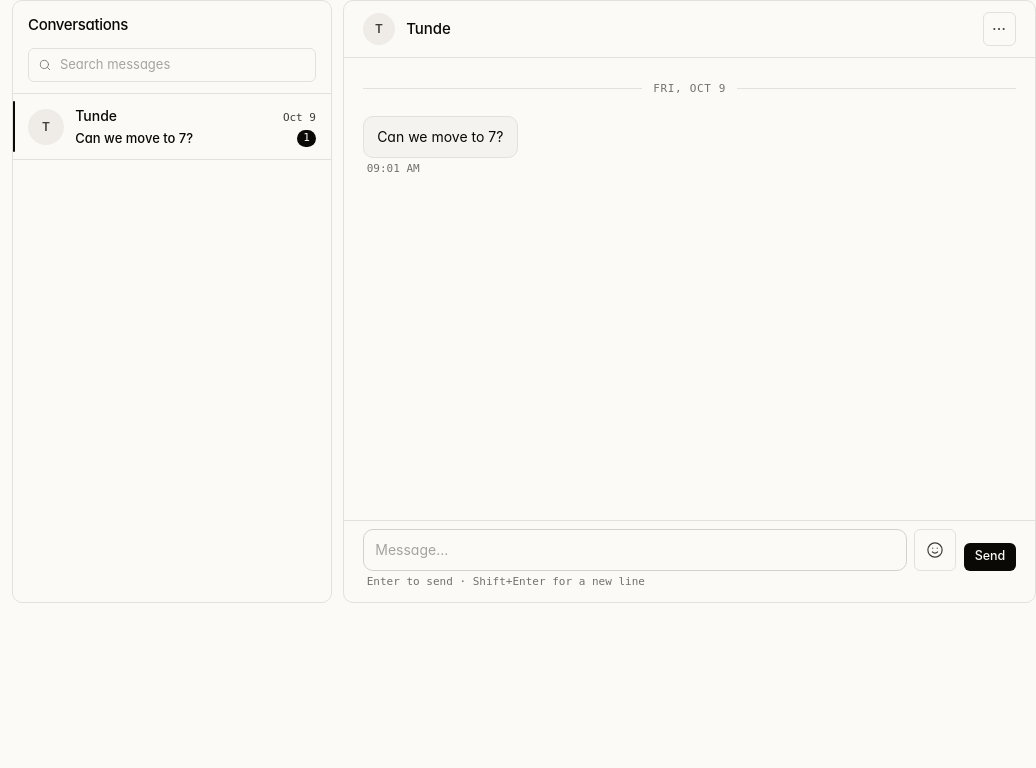
Test: reply › quotes the message above the composer and sends reply_to_message_id; Escape cancels
Right-click the text "Can we move to 7?".
right_click(440, 137)  # box x1=363 y1=116 x2=518 y2=158
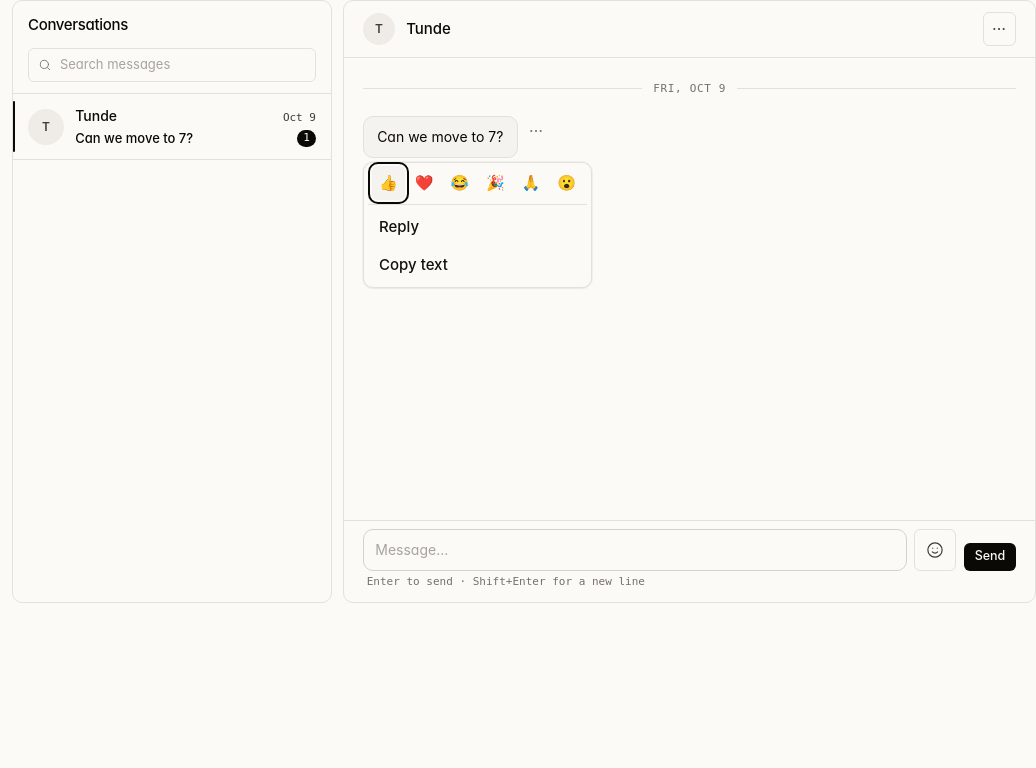
Click the menu item "Reply".
click(478, 227)  # box x1=368 y1=208 x2=587 y2=246
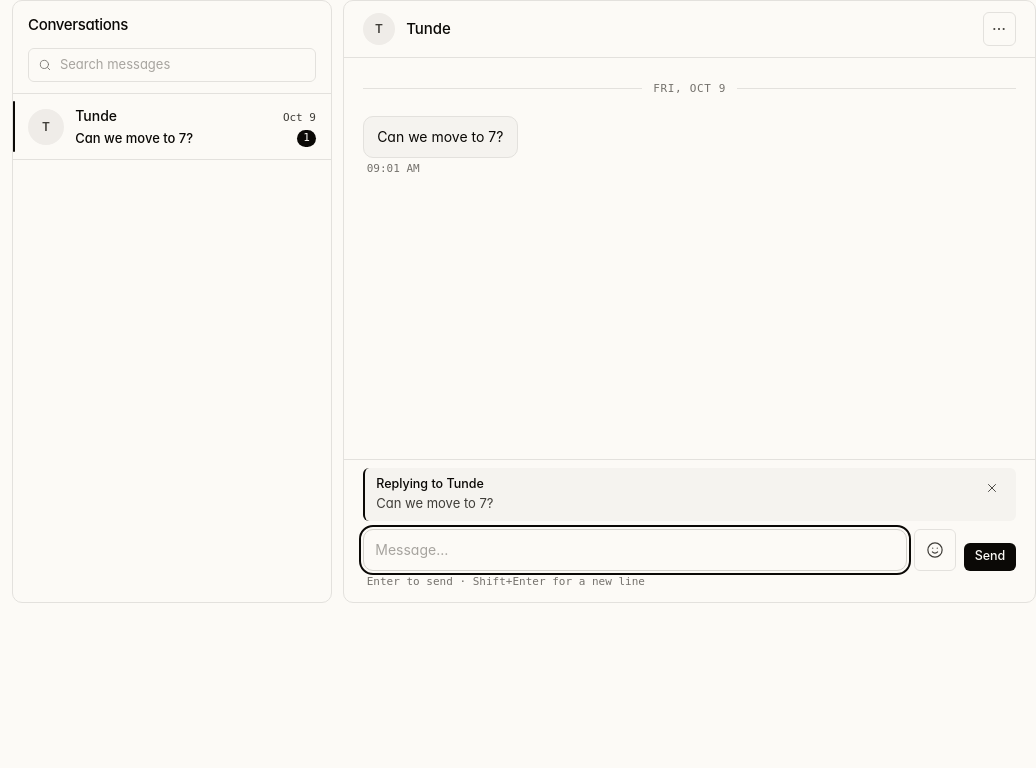
Now the text "Replying to Tunde" is shown, box x1=376 y1=476 x2=484 y2=491
Press Escape in the text box named "Message Tunde", box x1=363 y1=528 x2=907 y2=570
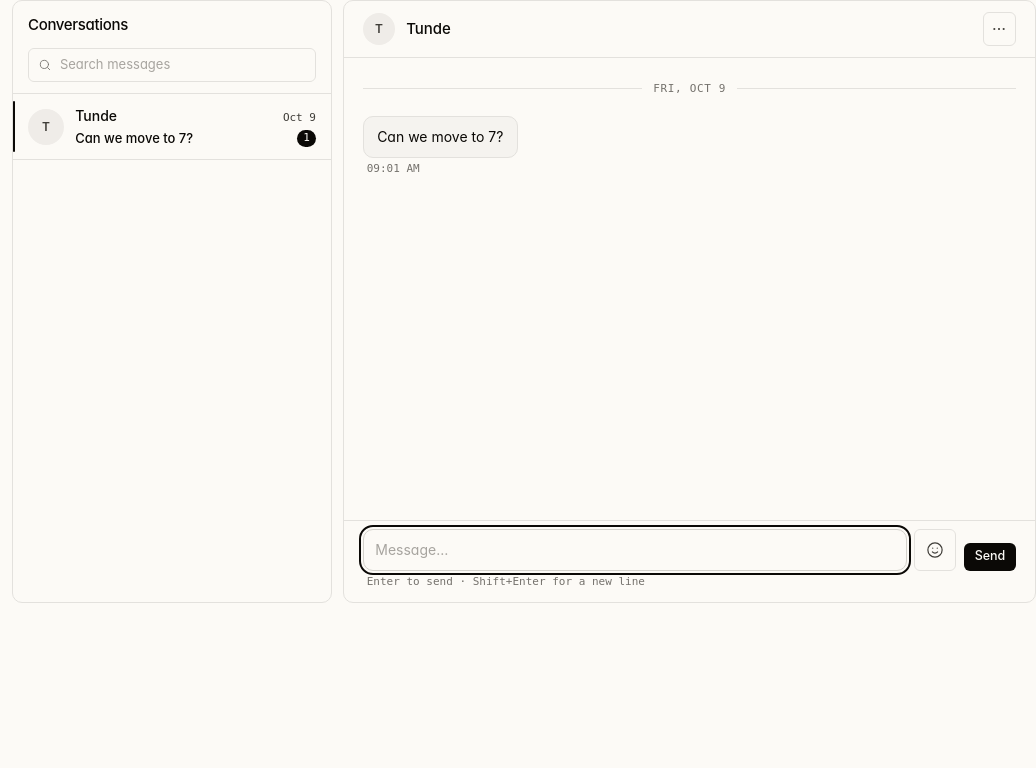
Now the text "Replying to Tunde" is gone
Right-click the text "Can we move to 7?".
right_click(440, 137)  # box x1=363 y1=116 x2=518 y2=158
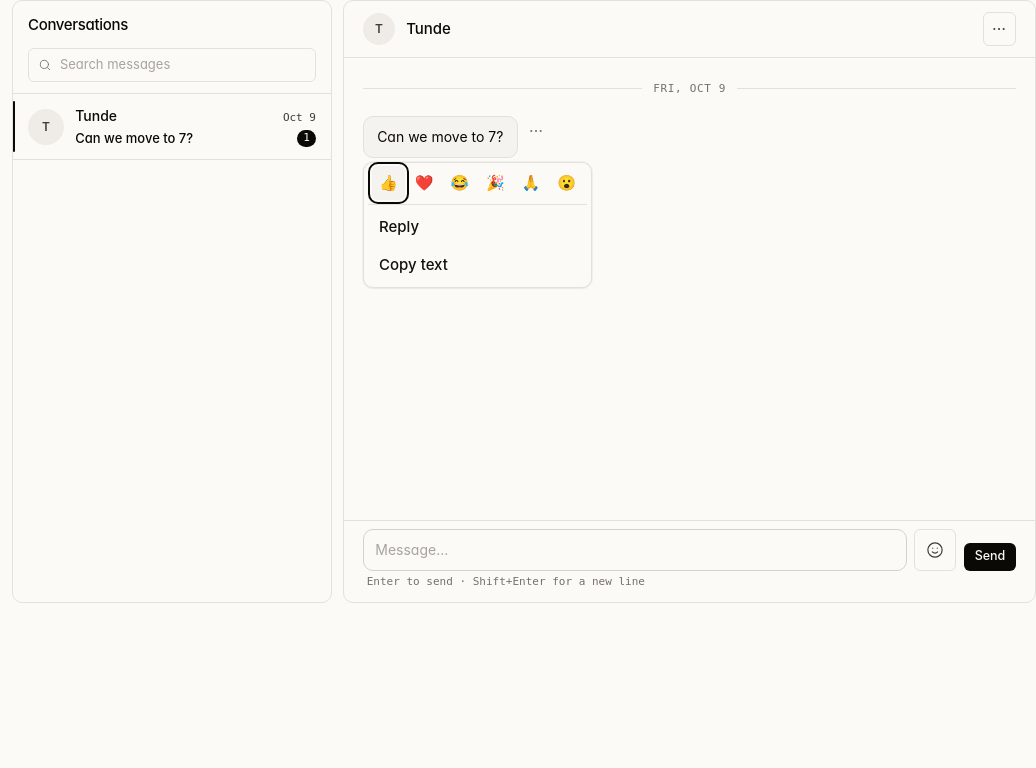
Click the menu item "Reply".
click(478, 227)  # box x1=368 y1=208 x2=587 y2=246
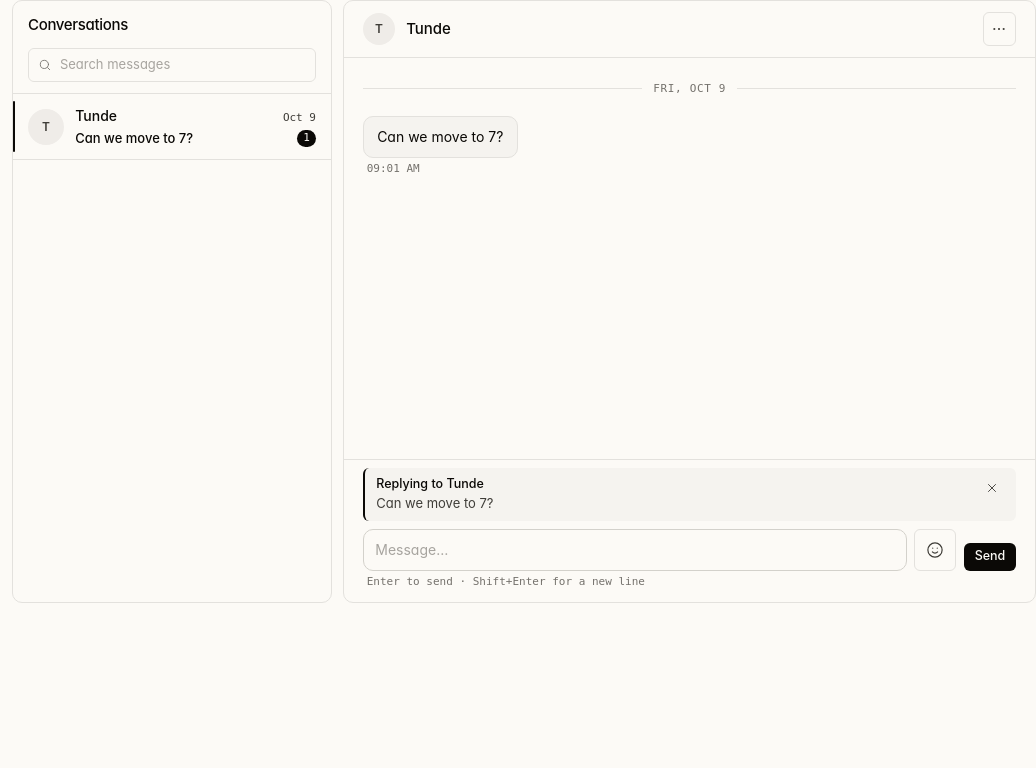
Type "Yes, 7 works" into the text box named "Message Tunde".
click(635, 550); type("Yes, 7 works")  # box x1=363 y1=528 x2=907 y2=570
Press Enter in the text box named "Message Tunde", box x1=363 y1=528 x2=907 y2=570
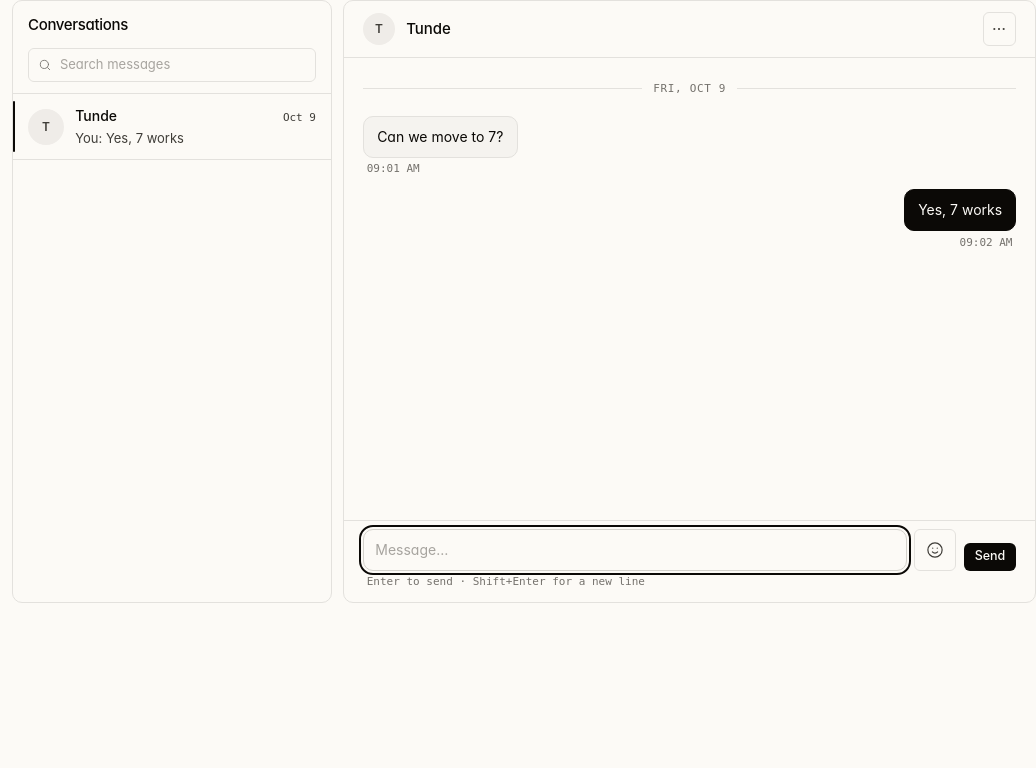
Now the text "Replying to Tunde" is gone
